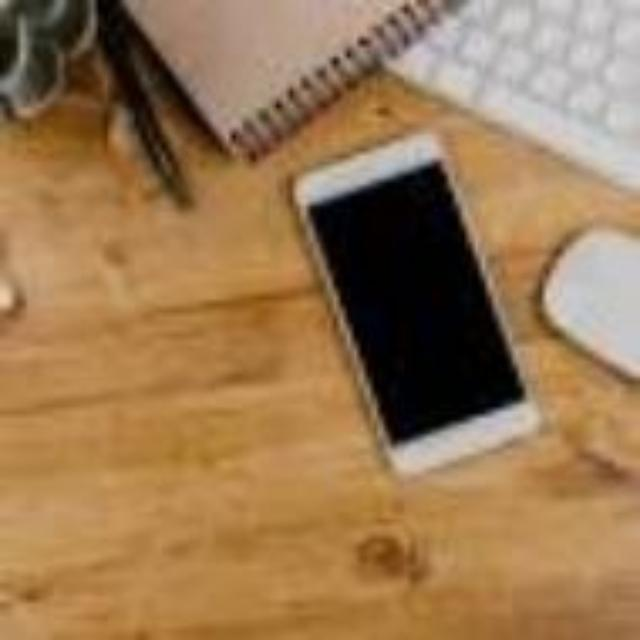phone: (297, 163, 521, 449)
